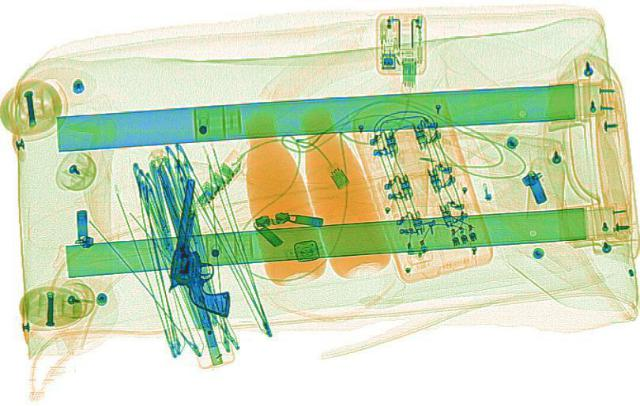Gun: (155, 176, 259, 313)
